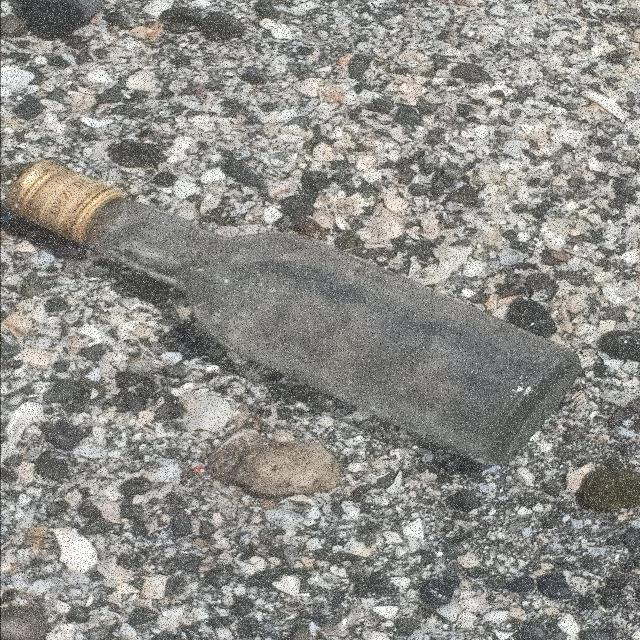glass_waste: (1, 156, 585, 468)
